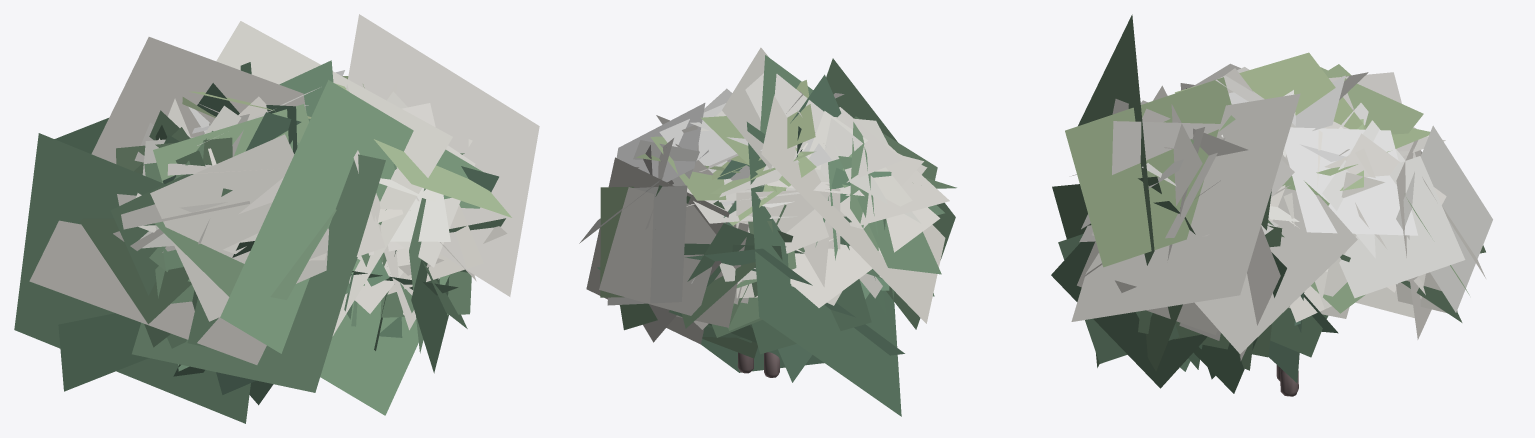
File: elder_v0.glb
3 views of the same model, side by side, from view 1: azimuth 30°, elevation 25°; view 2: azimuth 150°, elevation 25°; view 3: azimuth 270°, elevation 25° (orthographic). The views are drawn at different scales.
Visible parts, largest first — view 1: far, near; view 2: near, far; view 3: near, far.
Part boxes in pixels (left/top/right/bottom): far: left=14, top=14, right=539, bottom=423; near: left=79, top=70, right=511, bottom=373; near: left=579, top=73, right=956, bottom=377; far: left=597, top=47, right=955, bottom=416; near: left=1051, top=52, right=1492, bottom=396; far: left=1071, top=14, right=1368, bottom=370.
Size of the model in its own units: 8.19 by 6.43 by 7.66.
